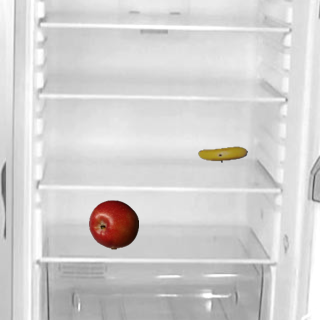Apple Braeburn: (88, 199, 138, 249)
Banana: (197, 129, 247, 179)
